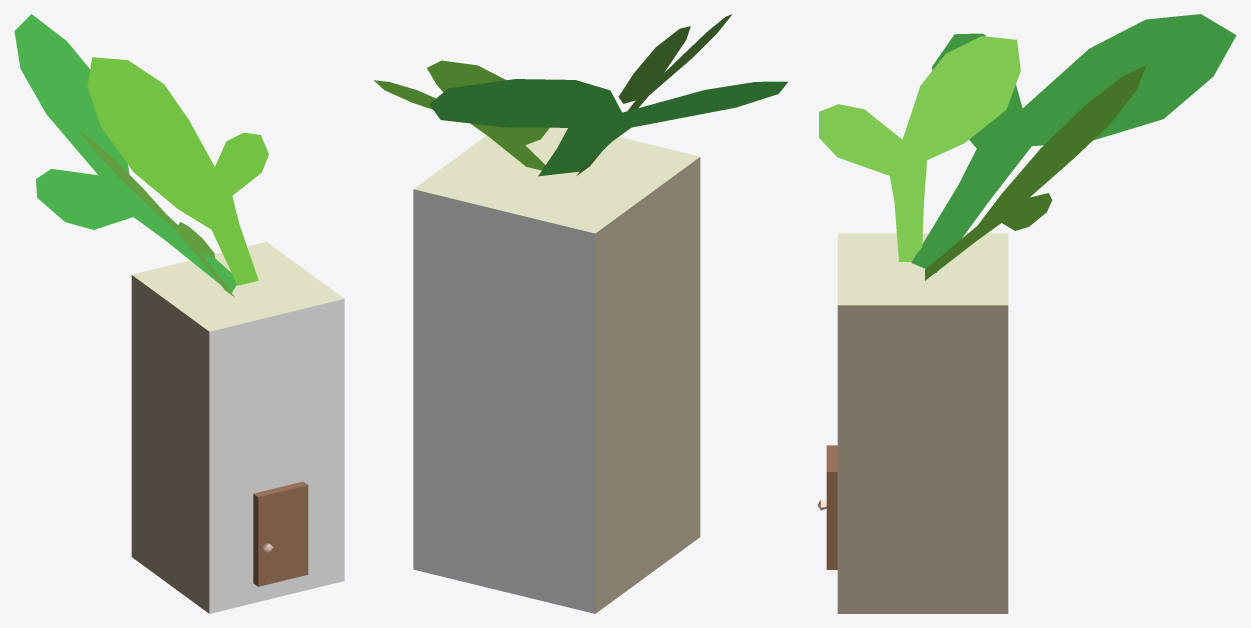
Rendered from houseRadish.fbx.
The picture shows the model from 3 angles, left to right: view 1: azimuth 30°, elevation 25°; view 2: azimuth 150°, elevation 25°; view 3: azimuth 270°, elevation 25°; orthographic projection. The views are drawn at different scales.
Visible parts, largest first — view 1: body, leaf3, leaf2, door, leaf1; view 2: body, leaf2, leaf3, leaf1; view 3: body, leaf2, leaf1, leaf3, door.
Part boxes in pixels (x1=…): body: x1=131, y1=242, x2=344, y2=613; leaf3: x1=87, y1=57, x2=268, y2=285; leaf2: x1=14, y1=14, x2=236, y2=292; door: x1=253, y1=481, x2=308, y2=586; leaf1: x1=79, y1=131, x2=234, y2=297; body: x1=413, y1=127, x2=700, y2=613; leaf2: x1=429, y1=79, x2=787, y2=176; leaf3: x1=374, y1=60, x2=549, y2=170; leaf1: x1=576, y1=14, x2=732, y2=175; body: x1=837, y1=233, x2=1008, y2=613; leaf2: x1=911, y1=14, x2=1236, y2=272; leaf1: x1=819, y1=36, x2=1020, y2=261; leaf3: x1=925, y1=65, x2=1146, y2=280; door: x1=826, y1=445, x2=837, y2=569.
Size of the model in its own units: 208 by 351 by 260.
Materials: 1 (1 with a texture image).
